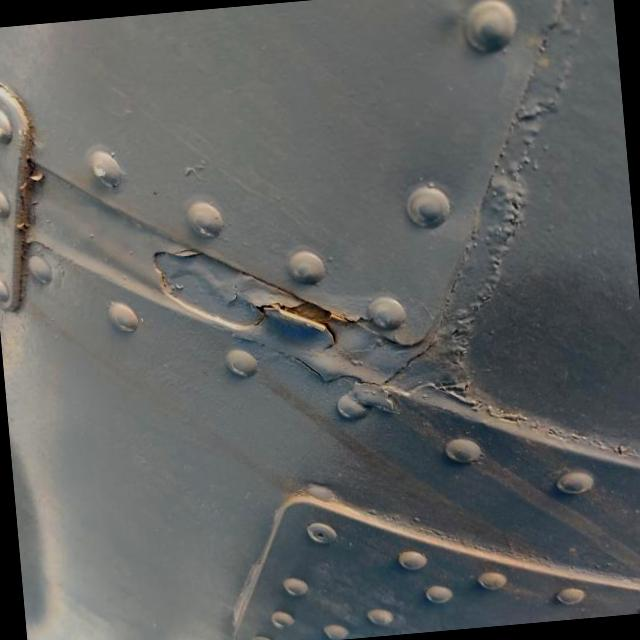crack: (238, 280, 386, 358)
